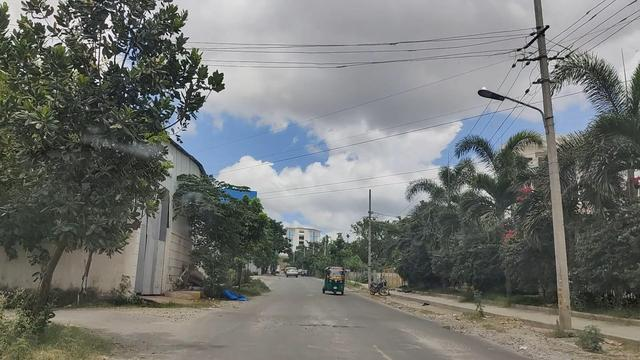RoadDamages: (286, 315, 366, 342)
